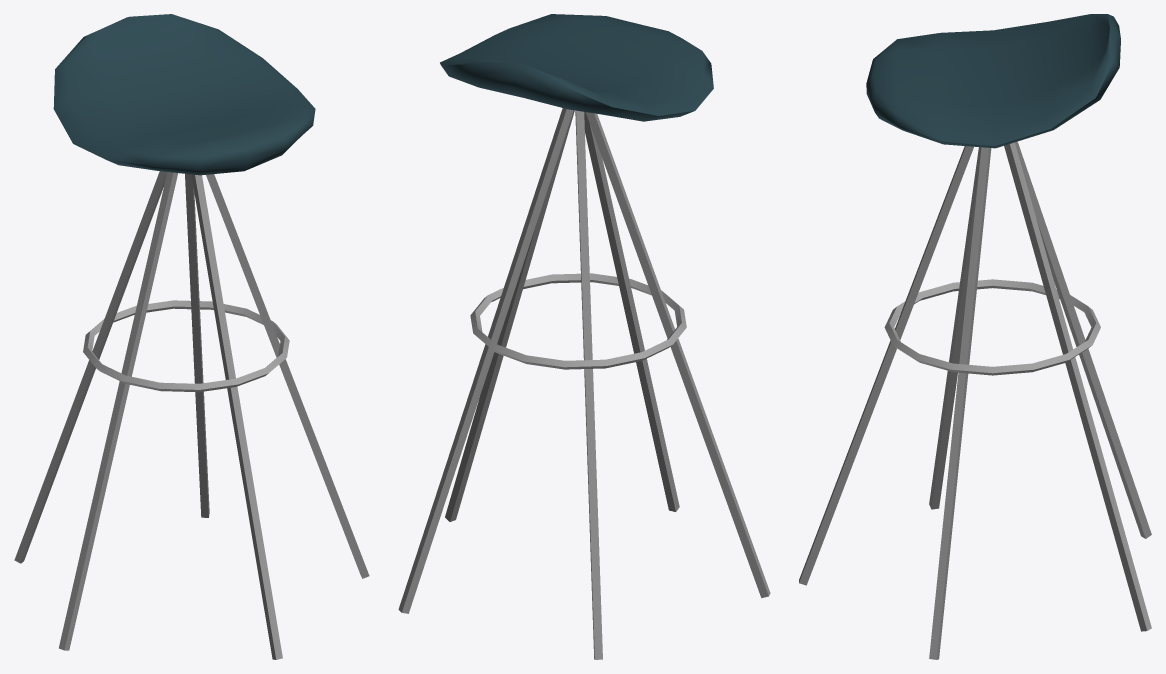
File: kitchen_chair_010.glb
3 renders of one model, left to right at view 1: azimuth 30°, elevation 25°; view 2: azimuth 150°, elevation 25°; view 3: azimuth 270°, elevation 25°, orthographic. The views are drawn at different scales.
Visible parts, largest first — view 1: kitchen_chair_010; view 2: kitchen_chair_010; view 3: kitchen_chair_010.
Boxes of the visible parts, box(x1,y1,x2,y2) form: kitchen_chair_010: box(14, 14, 369, 659); kitchen_chair_010: box(398, 14, 770, 659); kitchen_chair_010: box(799, 14, 1151, 659).
Size of the model in its own units: 0.5653 by 0.9345 by 0.5376.
Materials: 1 (1 with a texture image).
